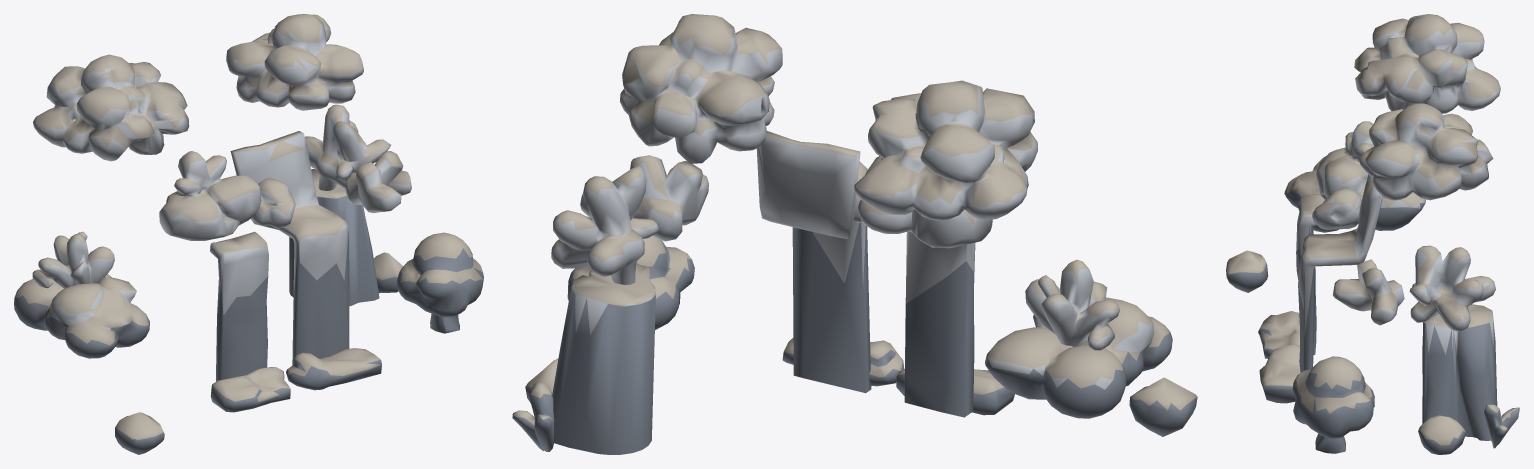
The model's file is SM_bob_map_cliff_waterfall.glb.
3 renders of one model, left to right at view 1: azimuth 30°, elevation 25°; view 2: azimuth 150°, elevation 25°; view 3: azimuth 270°, elevation 25°, orthographic. The views are drawn at different scales.
Parts seen in each view (by area): view 1: SM_bob_map_cliff_waterfall; view 2: SM_bob_map_cliff_waterfall; view 3: SM_bob_map_cliff_waterfall.
Boxes of the visible parts, left/top/right/bottom form: SM_bob_map_cliff_waterfall: left=14, top=14, right=483, bottom=454; SM_bob_map_cliff_waterfall: left=512, top=14, right=1197, bottom=454; SM_bob_map_cliff_waterfall: left=1226, top=14, right=1519, bottom=454.
Size of the model in its own units: 7.18 by 5 by 4.36.
1 material, 1 textured.
